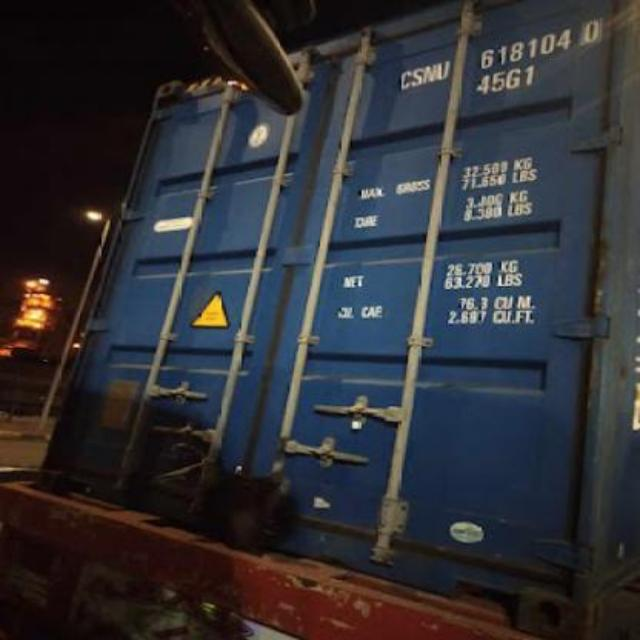0: (578, 15, 600, 47), (540, 30, 556, 59)
1: (494, 41, 508, 68), (526, 32, 536, 62)
4: (554, 26, 570, 52)
6: (474, 44, 494, 70)
8: (508, 39, 524, 63)
C: (394, 64, 410, 92)
N: (420, 60, 436, 88)
S: (410, 64, 422, 88)
U: (434, 58, 450, 82)
